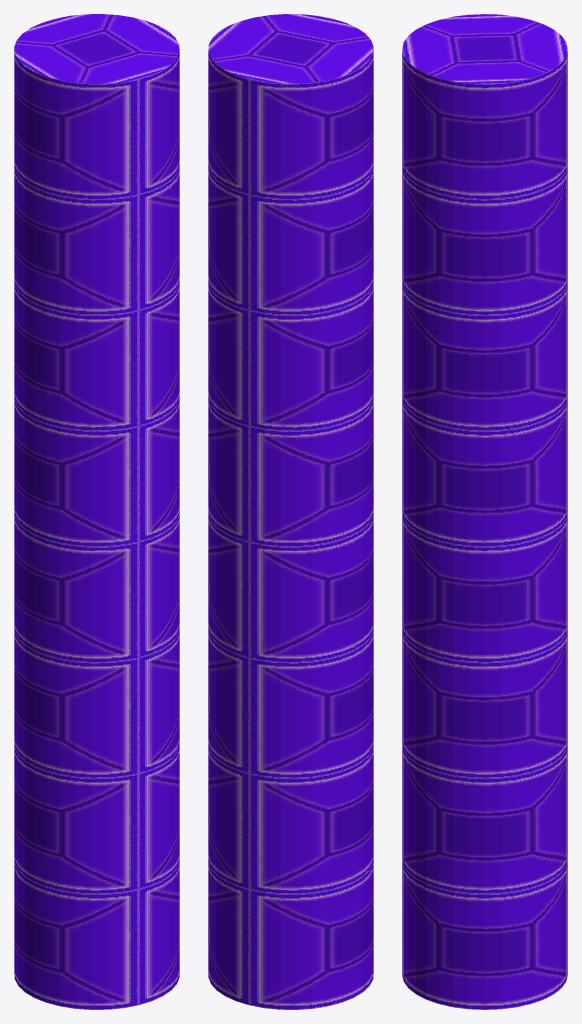
File: PilastraArcade.glb
The picture shows the model from 3 angles, left to right: view 1: azimuth 30°, elevation 25°; view 2: azimuth 150°, elevation 25°; view 3: azimuth 270°, elevation 25°; orthographic projection.
Visible parts, largest first — view 1: Cylinder.015; view 2: Cylinder.015; view 3: Cylinder.015.
Part boxes in pixels (box(x1,y1,x2,y2)): Cylinder.015: box(14, 14, 179, 1009); Cylinder.015: box(208, 14, 373, 1009); Cylinder.015: box(402, 14, 567, 1009).
Size of the model in its own units: 2 by 12.33 by 2.
Materials: 1 (1 with a texture image).
